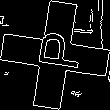P_W: (27, 33, 83, 77)
